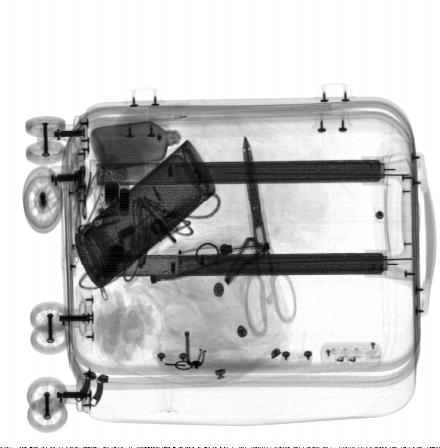Scissors: (241, 134, 299, 339)
